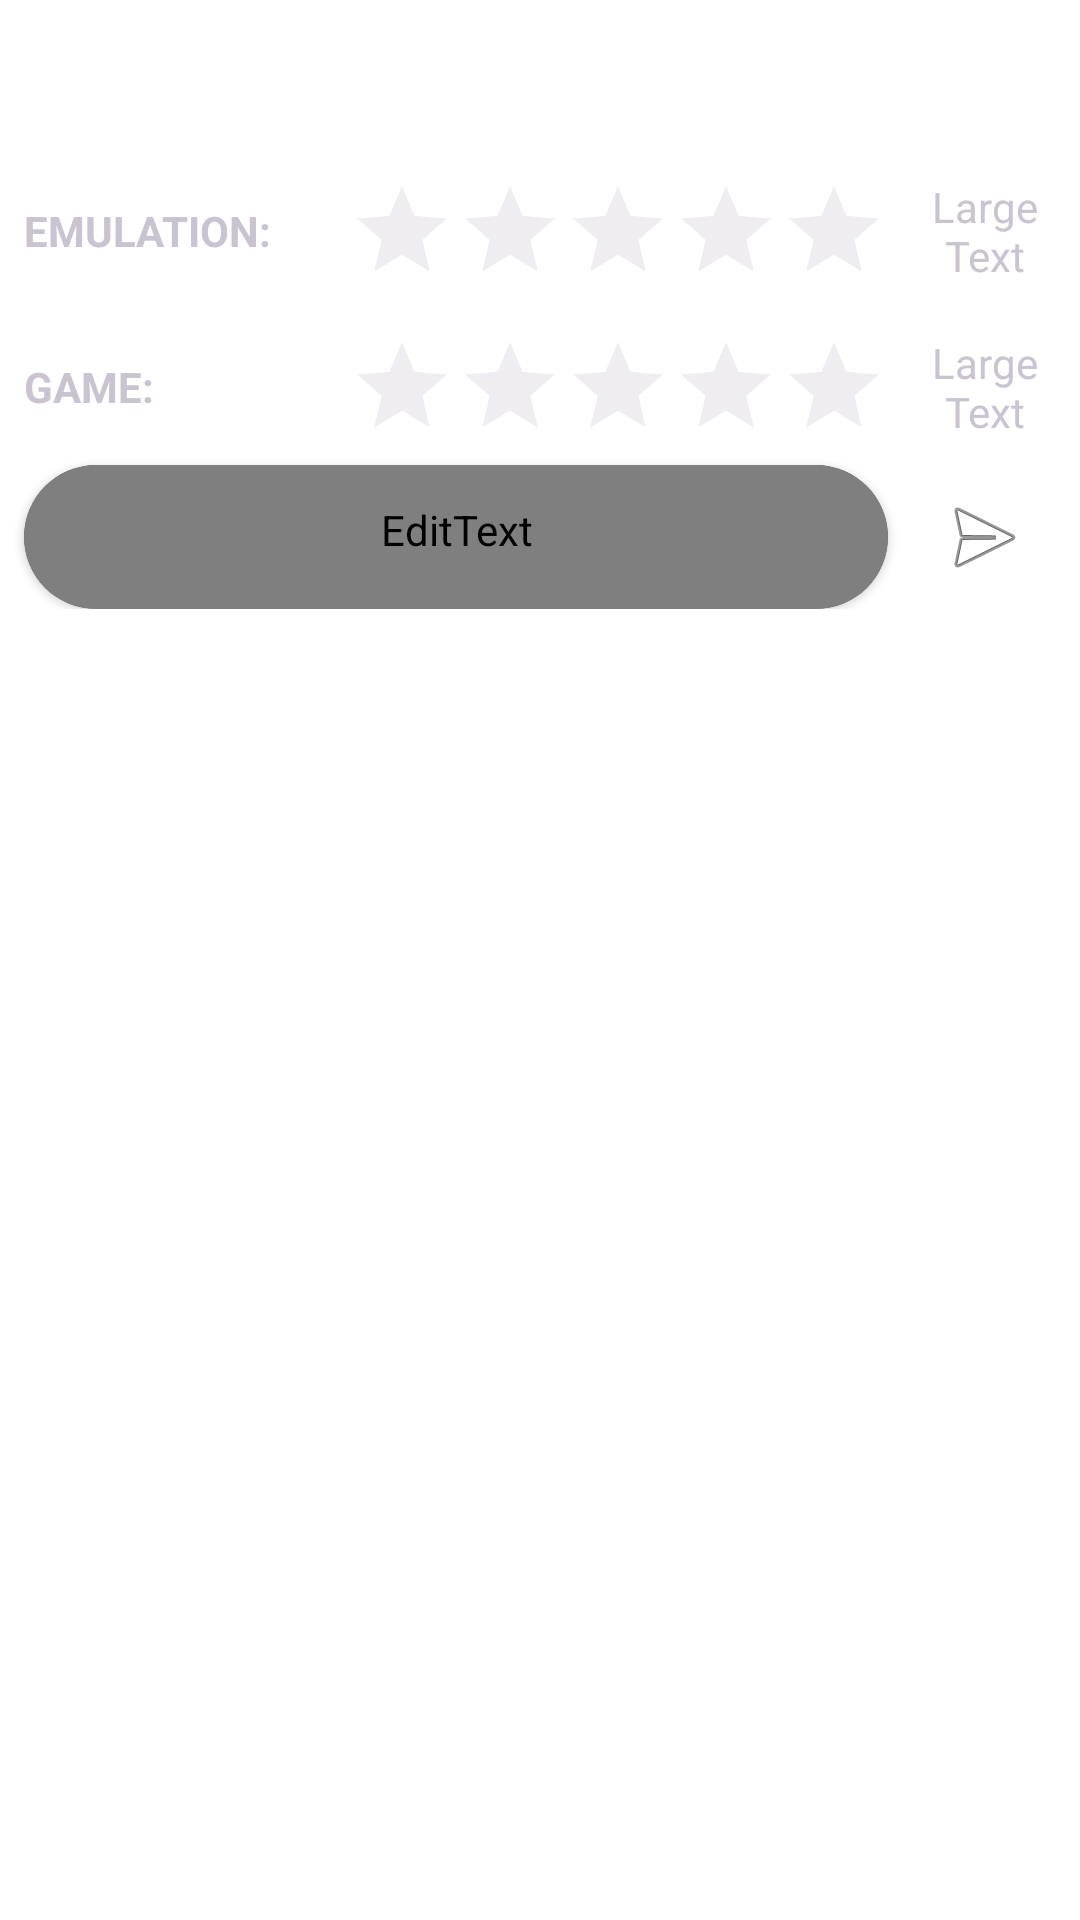

Screen size 1080*1920. Icon name, then its box in pixels as region(x1, y1, x2, y2):
send: region(954, 507, 1016, 568)
